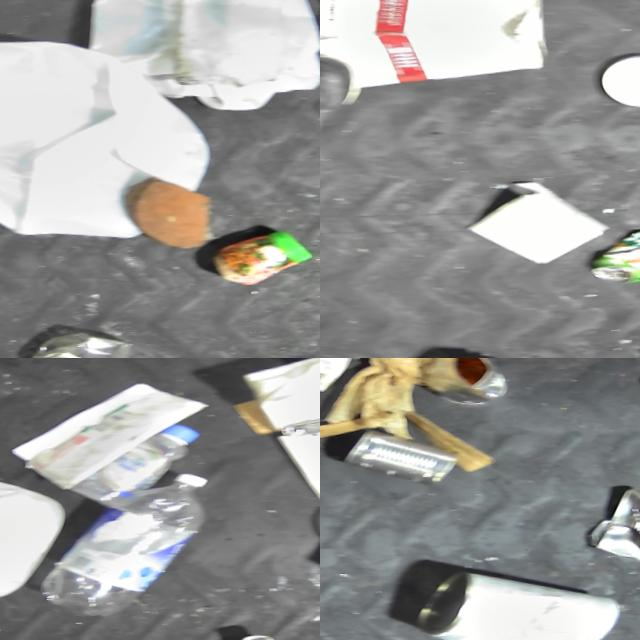can: (410, 549, 624, 640), (337, 415, 463, 486), (583, 471, 640, 559), (422, 358, 512, 403), (588, 213, 640, 279)
milk_jug: (0, 14, 216, 255), (76, 0, 320, 118), (0, 469, 75, 617)
plastic_bottle: (34, 459, 220, 623), (62, 412, 206, 512)
